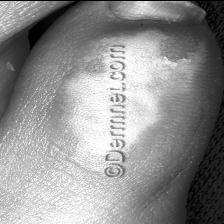Non-Cancerous Skin Condition: (56, 17, 202, 156)
